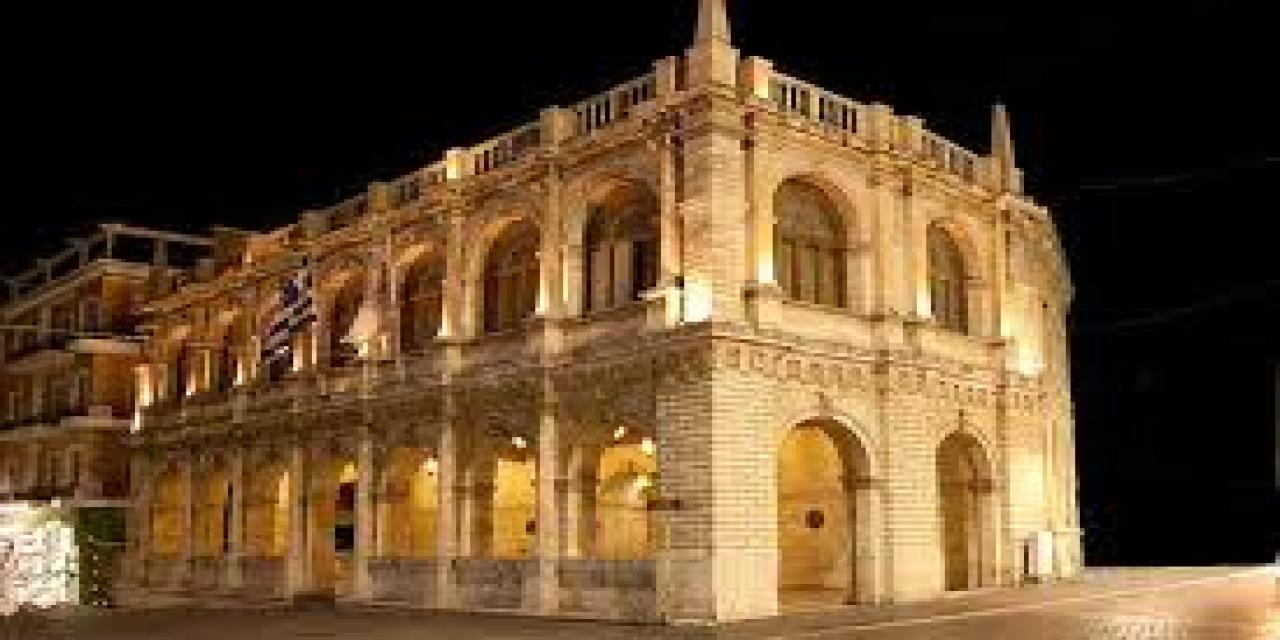Loggia: (119, 1, 1089, 633)
